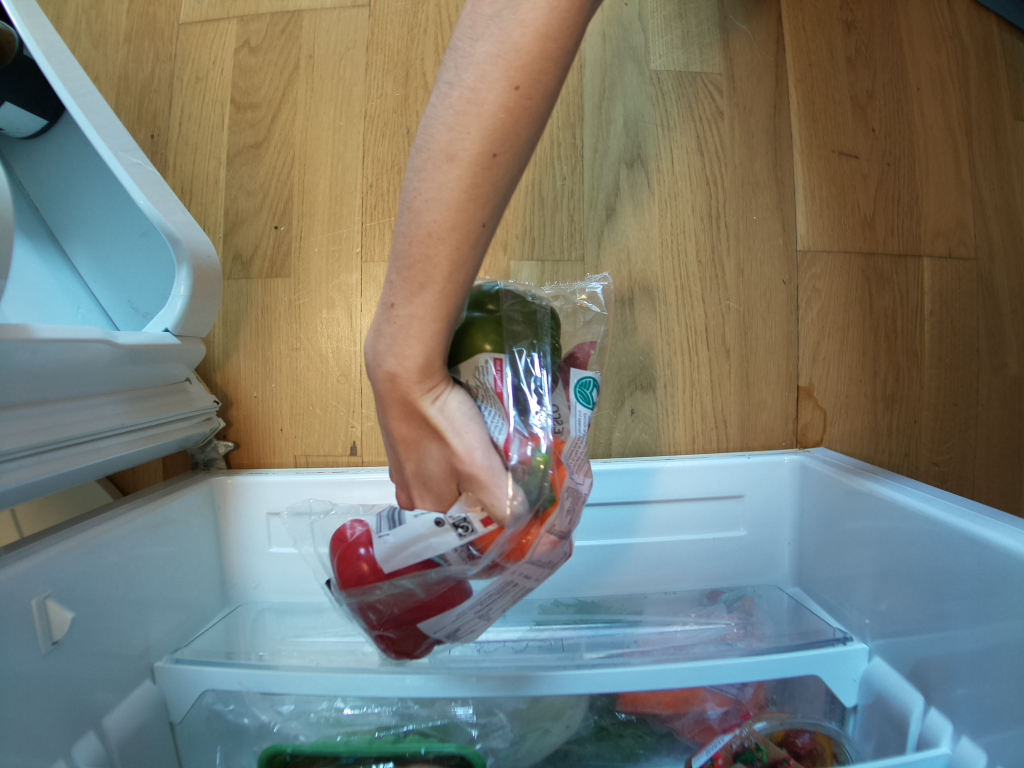pepper: (331, 517, 475, 657), (467, 428, 593, 573), (452, 279, 569, 403)
